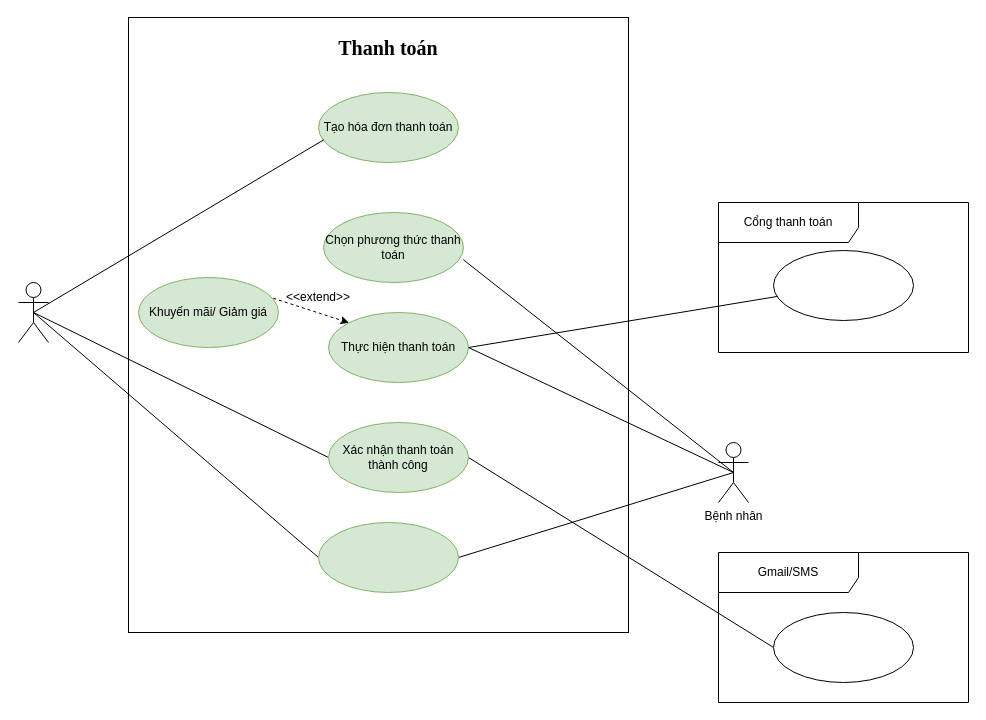
Some shapes in this 986 by 720 pixel diagram are drawn without their labels. The shapes that lost their labels are listed below. From the top down, each one's centre as x and y in pixels, then its label:
At (843,285): "Xử lý thanh toán".
At (33,312): "Lễ tân".
At (388,557): "Xem hóa đơn cần thanh toán".
At (843,647): "Gửi biên lai thanh toán".
